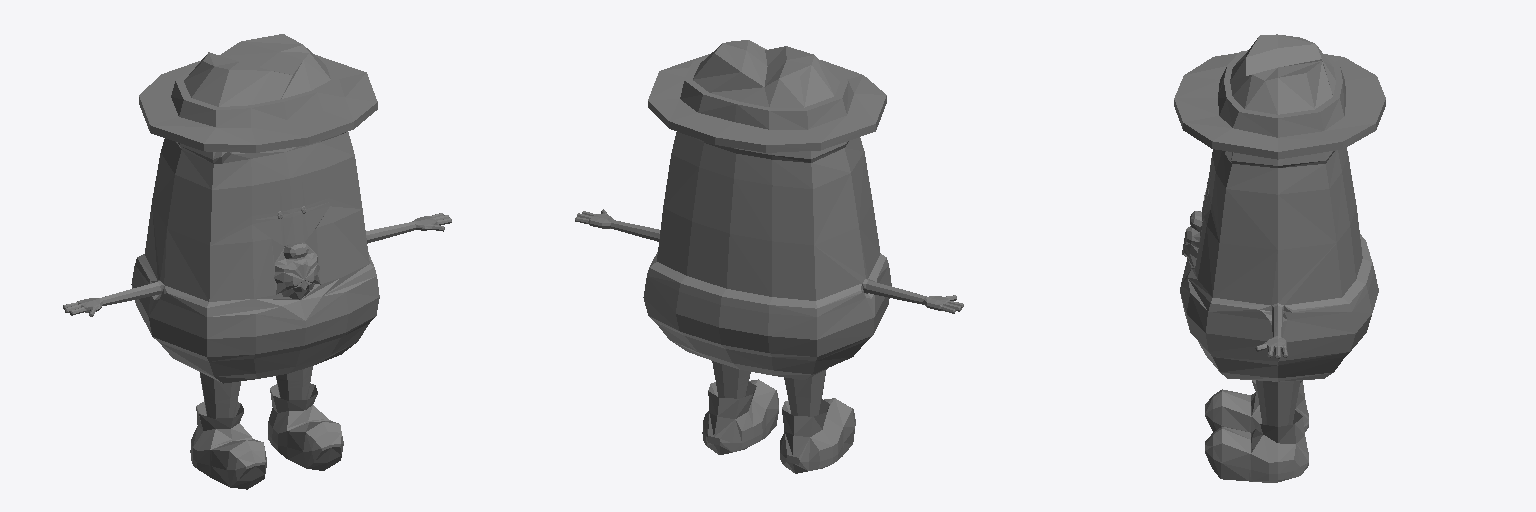
The model's file is fishermanplain.obj.
The picture shows the model from 3 angles: view 1: azimuth 30°, elevation 25°; view 2: azimuth 150°, elevation 25°; view 3: azimuth 270°, elevation 25°; orthographic projection.
Parts seen in each view (by area): view 1: polySurface17; view 2: polySurface17; view 3: polySurface17.
Part boxes in pixels (x1,y1,x2,y2): polySurface17: (63, 34, 451, 489); polySurface17: (575, 40, 963, 473); polySurface17: (1174, 34, 1385, 482).
Size of the model in its own units: 8.98 by 9.07 by 4.3.